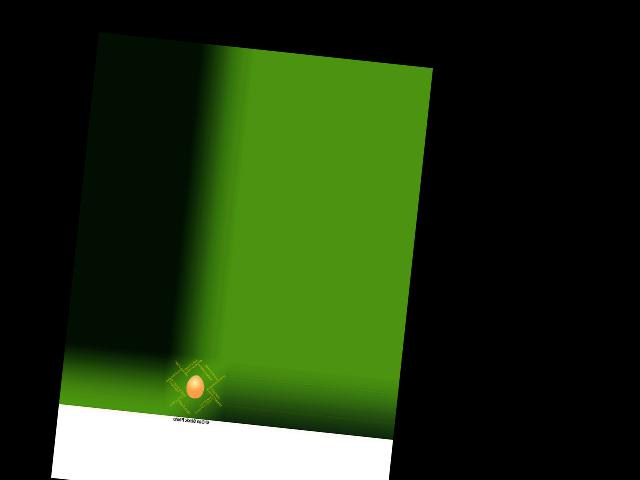egg: (185, 374, 205, 399)
